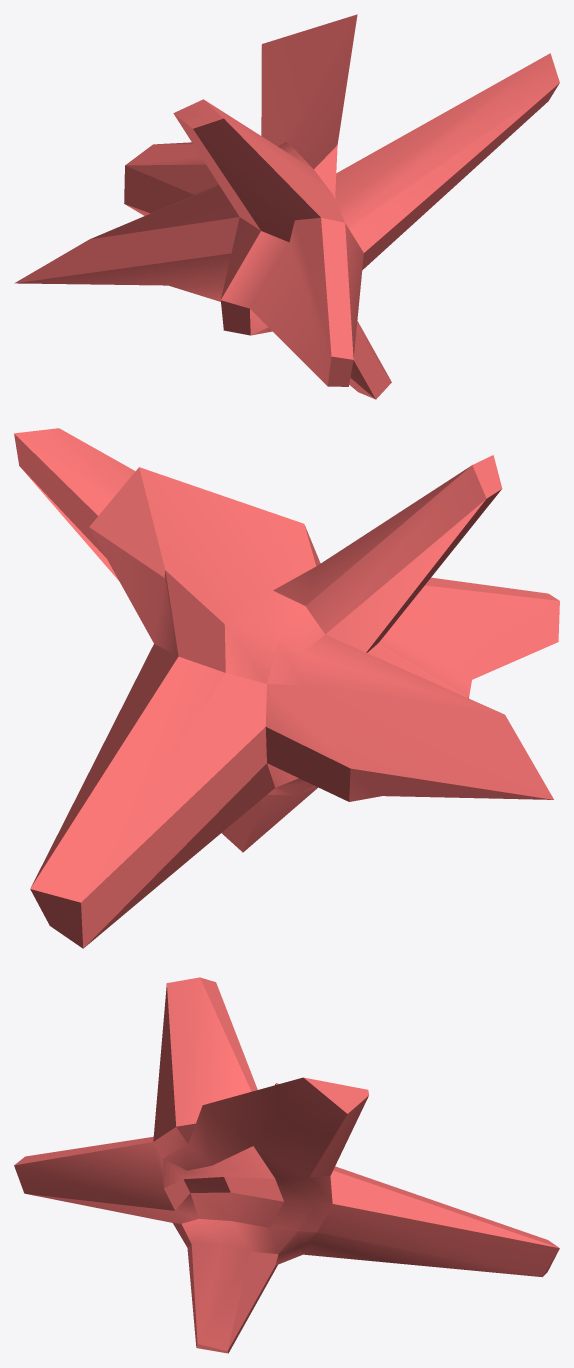
File: boom.gltf
3 views of the same model, one above another, from view 1: azimuth 30°, elevation 25°; view 2: azimuth 150°, elevation 25°; view 3: azimuth 270°, elevation 25° (orthographic). The views are drawn at different scales.
Parts seen in each view (by area): view 1: Cube; view 2: Cube; view 3: Cube.
Part boxes in pixels (x1,y1,x2,y2): Cube: [14, 14, 559, 399]; Cube: [14, 428, 559, 948]; Cube: [14, 977, 559, 1353].
Size of the model in its own units: 1.49 by 1.01 by 1.65.
